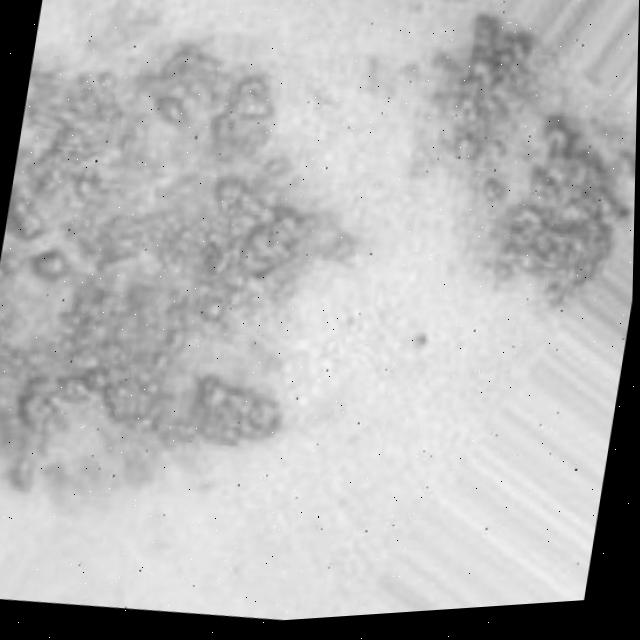Shingles: (0, 13, 385, 543), (392, 0, 639, 320)
